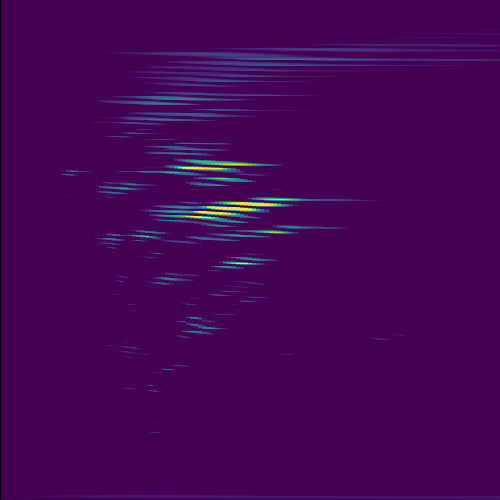semblance: (151, 194, 313, 227), (133, 157, 278, 182)
